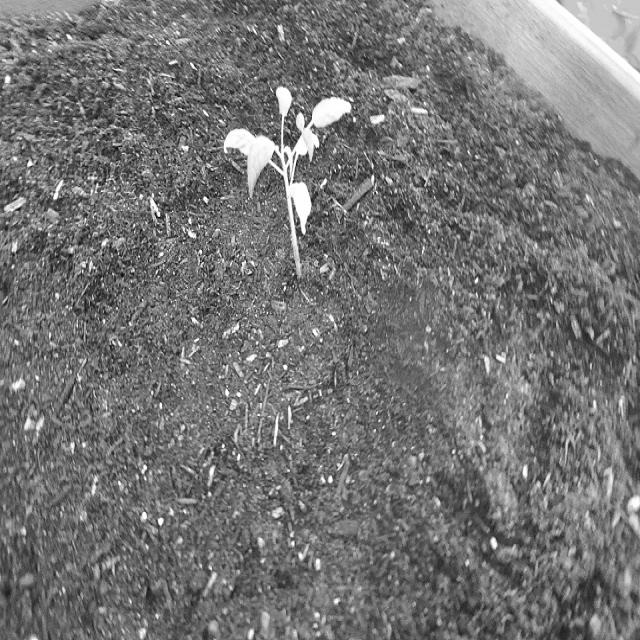Healthy: (217, 74, 362, 300)
